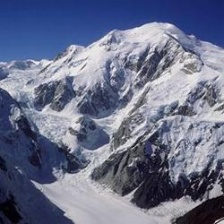neutral: (1, 4, 223, 224)
